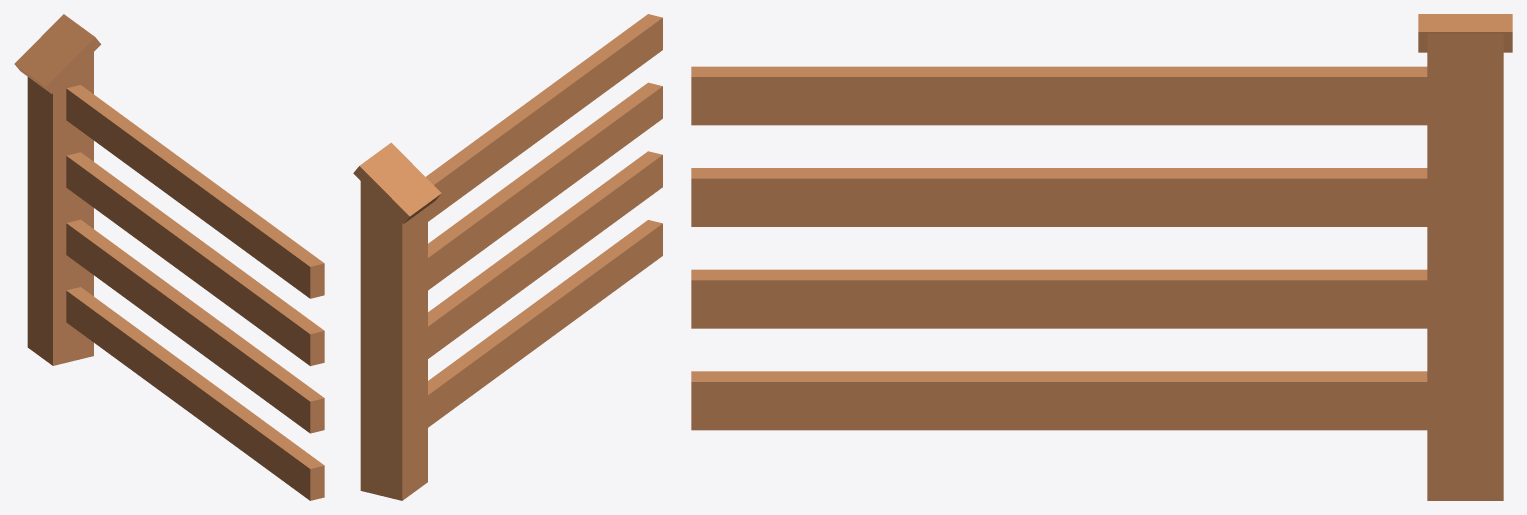
The model's file is Fence1.fbx.
3 renders of one model, left to right at view 1: azimuth 30°, elevation 25°; view 2: azimuth 150°, elevation 25°; view 3: azimuth 270°, elevation 25°, orthographic. The views are drawn at different scales.
Visible parts, largest first — view 1: Cube.009, Cube.006, Cube.008, Cube.007, Cube.005; view 2: Cube.009, Cube.007, Cube.006, Cube.008, Cube.005; view 3: Cube.007, Cube.008, Cube.005, Cube.006, Cube.009.
Boxes of the visible parts, <box> form: Cube.009: <box>14,14,101,365</box>; Cube.006: <box>66,152,324,366</box>; Cube.008: <box>66,287,324,500</box>; Cube.007: <box>66,219,324,433</box>; Cube.005: <box>66,85,324,298</box>; Cube.009: <box>353,142,441,500</box>; Cube.007: <box>428,151,662,358</box>; Cube.006: <box>428,82,662,290</box>; Cube.008: <box>428,220,662,427</box>; Cube.005: <box>426,14,662,221</box>; Cube.007: <box>691,269,1427,328</box>; Cube.008: <box>691,371,1427,430</box>; Cube.005: <box>691,66,1427,125</box>; Cube.006: <box>691,168,1427,226</box>; Cube.009: <box>1418,14,1512,500</box>.
Bounding box in the file's own units: 14.93 × 82.35 × 126.
